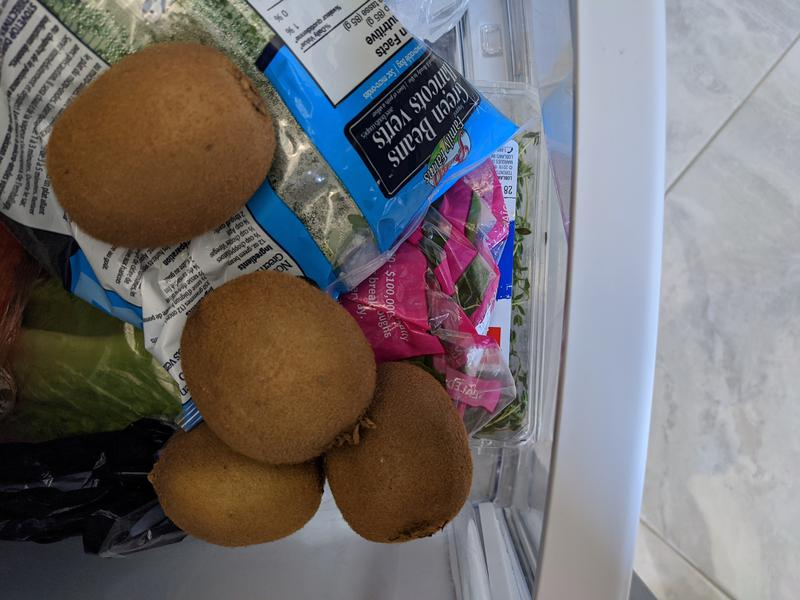kiwi: (45, 41, 276, 248), (179, 270, 378, 466), (324, 362, 474, 544), (155, 422, 326, 548)
